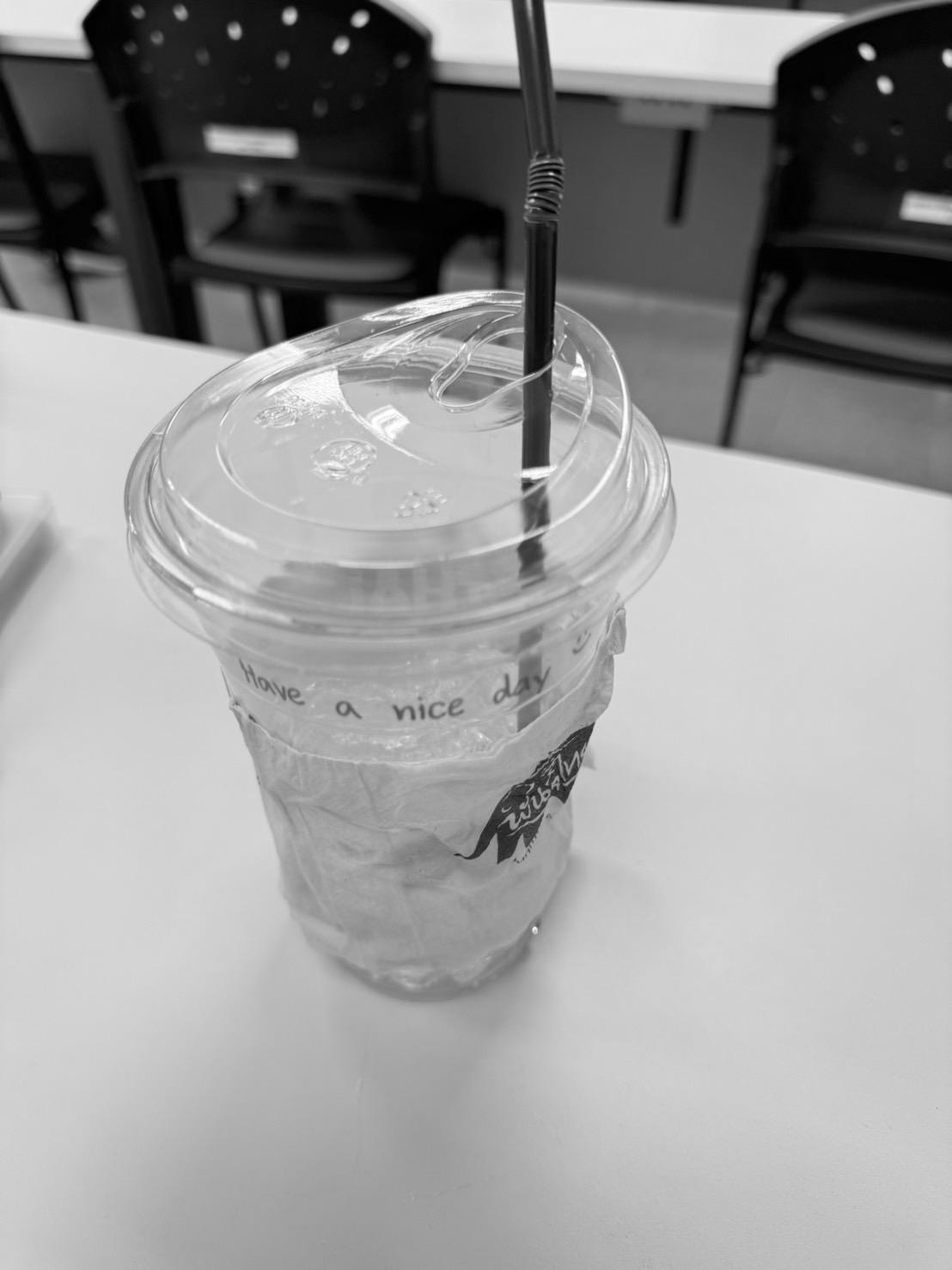glass: (125, 153, 674, 999)
